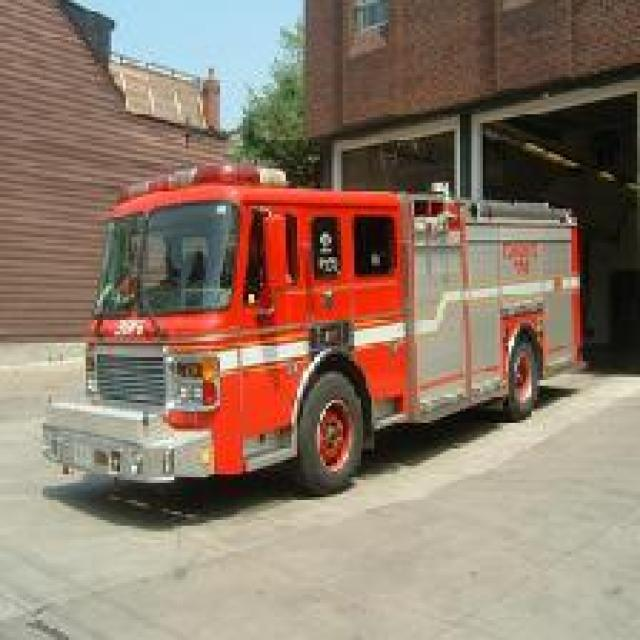emergency: (36, 155, 592, 498)
